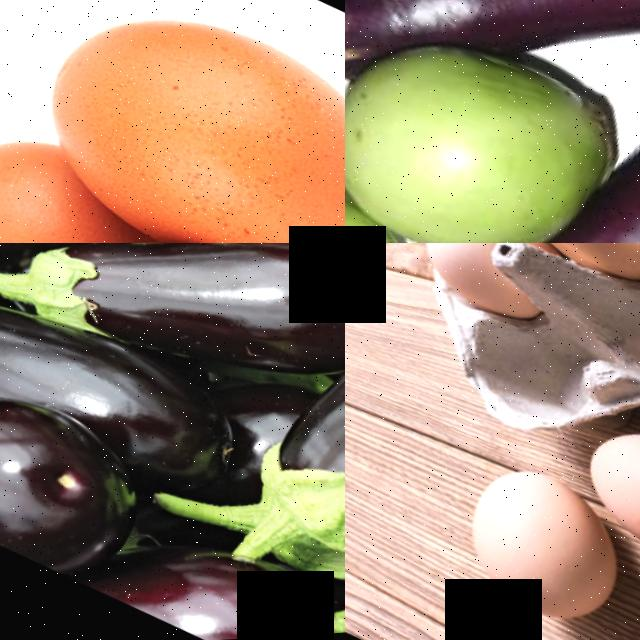egg_: (0, 0, 345, 243), (432, 450, 640, 640), (0, 173, 345, 243), (555, 401, 640, 611), (398, 243, 511, 302)
eggplant: (0, 243, 345, 453), (0, 248, 248, 501), (345, 0, 640, 164), (235, 243, 345, 624), (0, 348, 158, 599), (516, 1, 640, 243)
